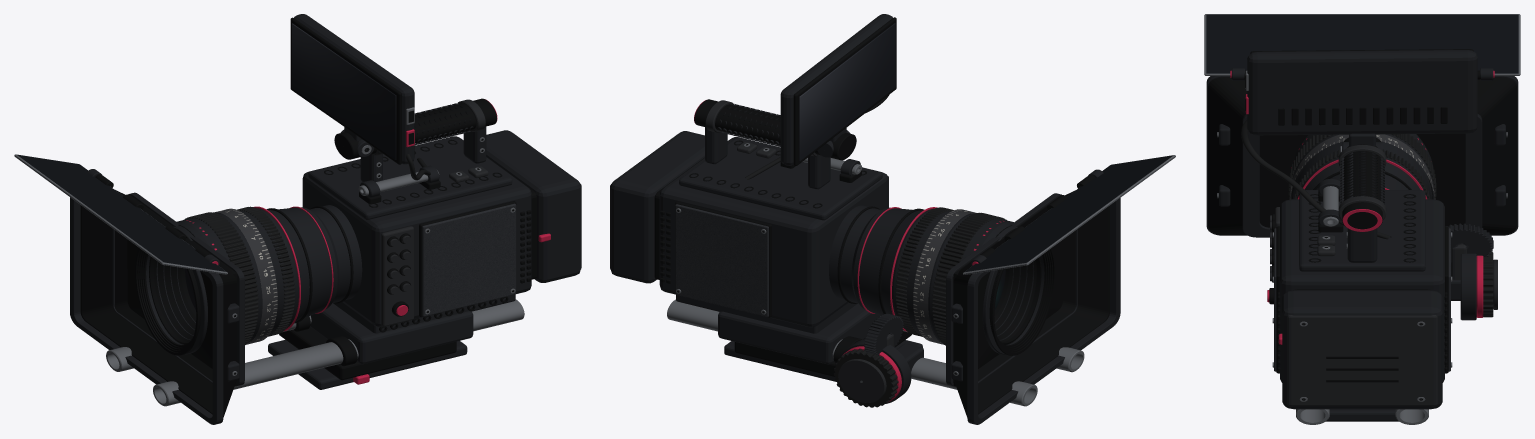
Rendered from avaris-cinema.glb.
3 views of the same model, side by side, from view 1: azimuth 30°, elevation 25°; view 2: azimuth 150°, elevation 25°; view 3: azimuth 270°, elevation 25° (orthographic). The views are drawn at different scales.
Visible parts, largest first — view 1: Chassis, Matte box, Cine lens, Support and follow focus, Top handle, Monitor and swivel; view 2: Chassis, Matte box, Cine lens, Support and follow focus, Top handle, Monitor and swivel; view 3: Matte box, Chassis, Monitor and swivel, Top handle, Support and follow focus, Cine lens.
Part boxes in pixels (x1,y1,x2,y2): Chassis: (302,130,581,326); Matte box: (14,154,244,424); Cine lens: (135,205,362,355); Support and follow focus: (106,294,524,406); Top handle: (308,98,512,219); Monitor and swivel: (290,14,430,180); Chassis: (610,131,888,327); Matte box: (946,155,1175,424); Cine lens: (829,205,1055,355); Support and follow focus: (667,295,1084,407); Top handle: (679,99,882,220); Monitor and swivel: (745,14,896,179); Matte box: (1204,14,1520,237); Chassis: (1267,199,1452,409); Monitor and swivel: (1241,49,1477,239); Top handle: (1299,137,1425,271); Support and follow focus: (1296,223,1497,424); Cine lens: (1288,134,1436,199).
Bounding box in the file's own units: 0.3338 × 0.2125 × 0.1876.
Materials: 11 (4 with a texture image).
